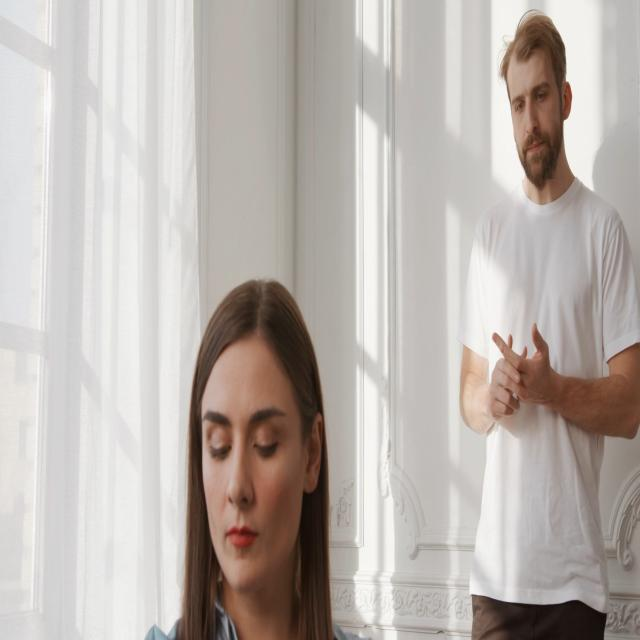confused: (495, 22, 579, 191)
sad: (201, 326, 324, 586)
